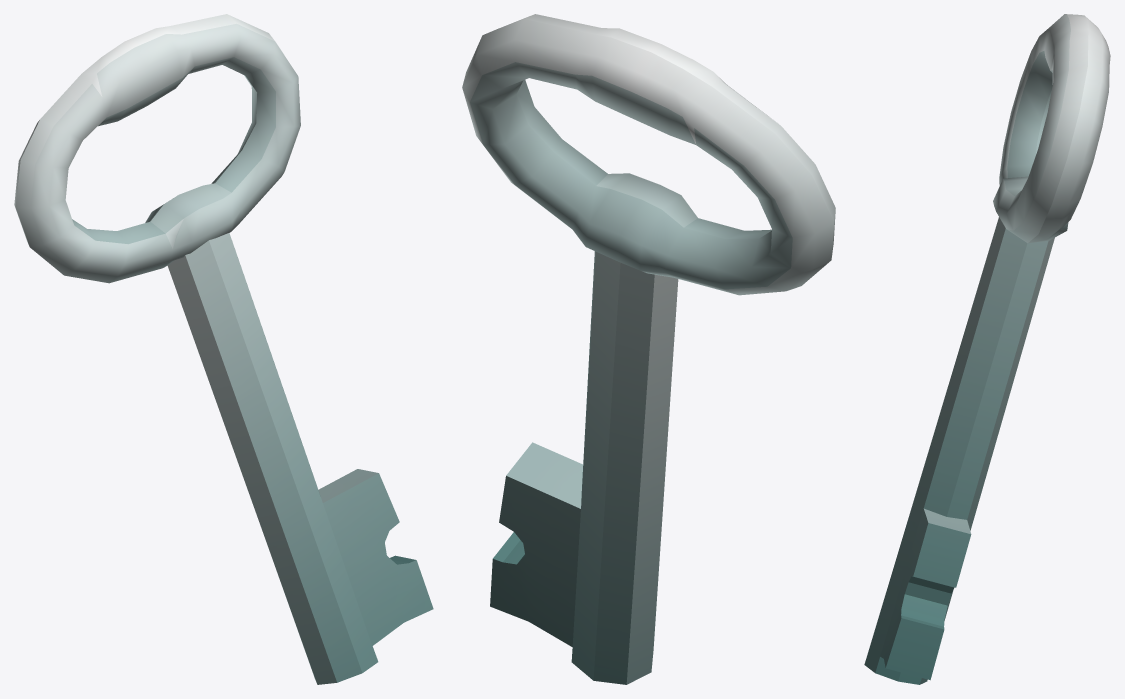
Rendered from Knowledge_Key.fbx.
3 views of the same model, side by side, from view 1: azimuth 30°, elevation 25°; view 2: azimuth 150°, elevation 25°; view 3: azimuth 270°, elevation 25° (orthographic). The views are drawn at different scales.
Parts seen in each view (by area): view 1: Knowledge_Key; view 2: Knowledge_Key; view 3: Knowledge_Key.
Boxes of the visible parts, x1,y1,x2,y2 form: Knowledge_Key: (14, 14, 433, 684); Knowledge_Key: (462, 14, 835, 684); Knowledge_Key: (864, 14, 1110, 684).
Bounding box in the file's own units: 5.9 × 10.13 × 3.72.
